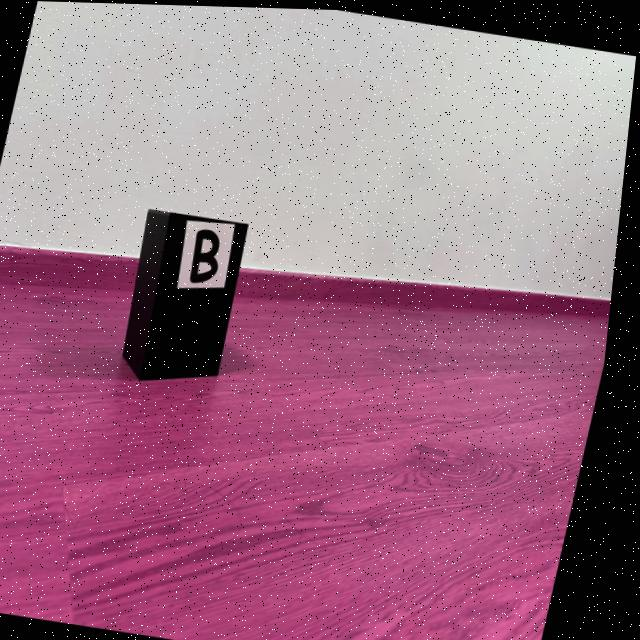B: (195, 227, 225, 282)
